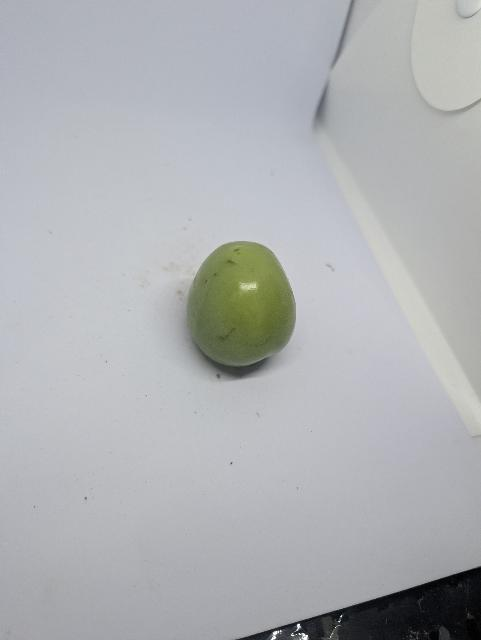green: (185, 240, 299, 370)
